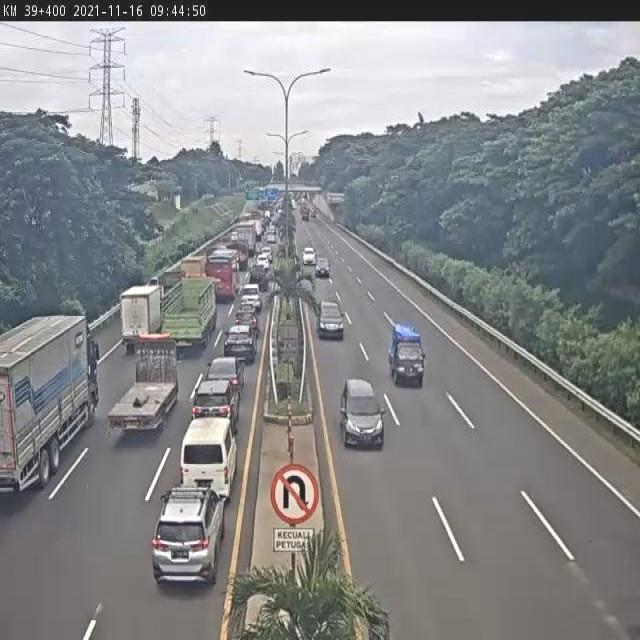Bus: (205, 248, 241, 302)
Car: (150, 482, 228, 590), (338, 378, 384, 450), (192, 376, 241, 434), (206, 349, 245, 388), (224, 324, 258, 364), (317, 300, 345, 341), (250, 263, 267, 286), (315, 257, 331, 278), (302, 247, 316, 266), (260, 245, 273, 262), (256, 253, 270, 268), (267, 232, 276, 244), (231, 230, 237, 242)
Truck: (0, 309, 101, 494), (107, 331, 184, 432), (162, 275, 218, 353), (118, 284, 162, 354), (387, 323, 428, 387), (158, 270, 189, 298), (178, 254, 209, 279), (225, 237, 250, 268), (235, 222, 257, 255), (248, 217, 263, 240), (286, 194, 295, 210), (302, 206, 310, 222)
Van: (179, 416, 238, 499), (240, 283, 262, 312)
